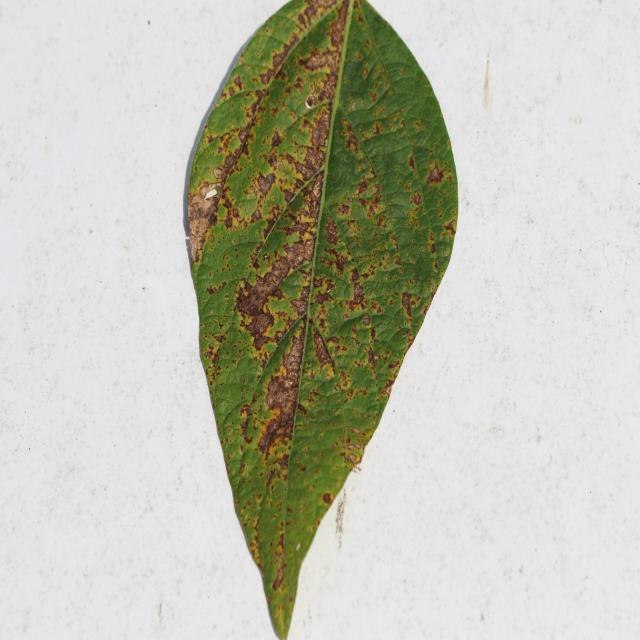Bacterial_Blight: (345, 173, 394, 238), (237, 276, 284, 333), (273, 82, 321, 130), (212, 135, 252, 186), (258, 409, 295, 455), (291, 142, 327, 184), (279, 236, 315, 275), (336, 430, 367, 472), (299, 0, 339, 31), (320, 243, 352, 278), (302, 47, 337, 74), (313, 331, 335, 370), (345, 280, 368, 314), (241, 90, 266, 119), (269, 44, 293, 74), (188, 230, 204, 263), (208, 331, 227, 353), (272, 558, 285, 590), (425, 163, 443, 185), (401, 291, 414, 321), (313, 288, 333, 306), (355, 176, 370, 196), (366, 344, 377, 371), (423, 287, 437, 308), (345, 132, 359, 152), (443, 217, 457, 236), (381, 378, 395, 397), (263, 271, 278, 287), (270, 129, 282, 148), (206, 283, 223, 296), (223, 213, 235, 230), (337, 202, 350, 217), (283, 189, 295, 205), (232, 74, 243, 91), (240, 403, 251, 419), (322, 492, 334, 505), (407, 153, 416, 170), (213, 166, 224, 179), (297, 403, 307, 416), (360, 65, 369, 78), (239, 462, 247, 475), (429, 242, 436, 255), (275, 161, 283, 171), (444, 248, 450, 256), (346, 436, 352, 443), (263, 254, 268, 261), (255, 52, 260, 58), (227, 428, 231, 435), (402, 108, 406, 113)
Soybean: (188, 0, 458, 636)
